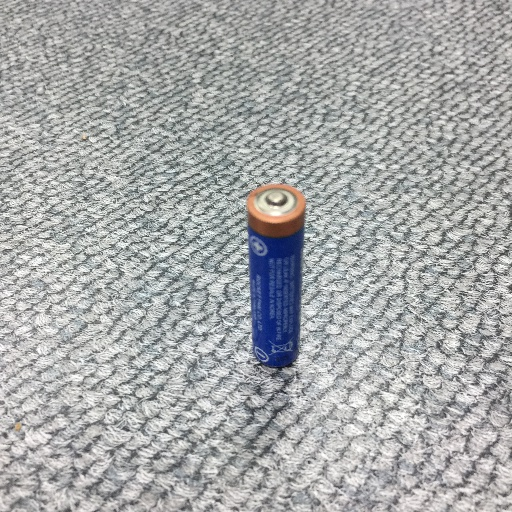Battery_0: (240, 174, 311, 376)
